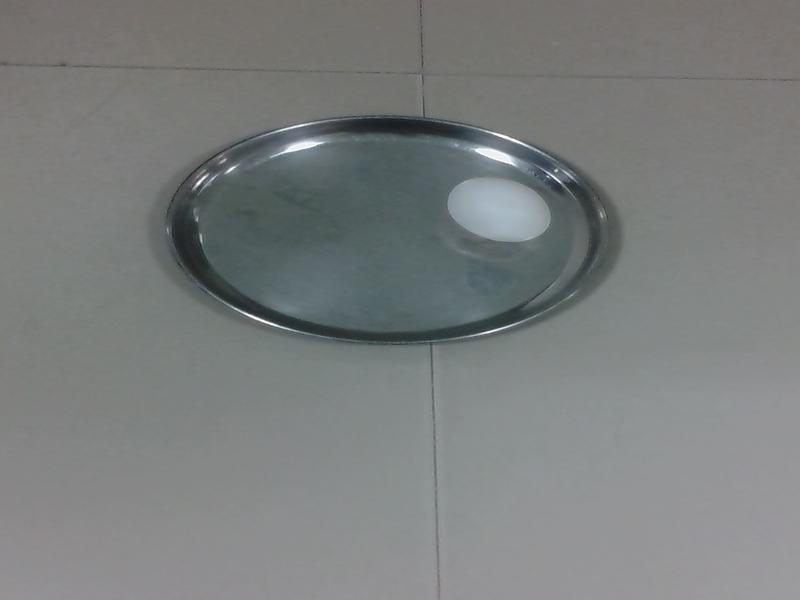egg: (444, 175, 556, 243)
